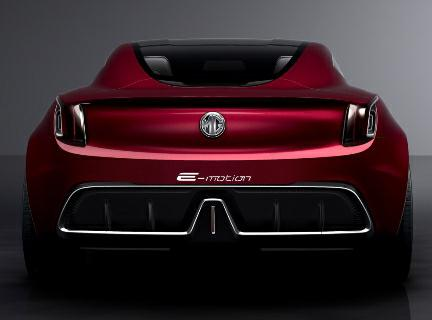名爵-E-motion: (19, 39, 421, 282)
